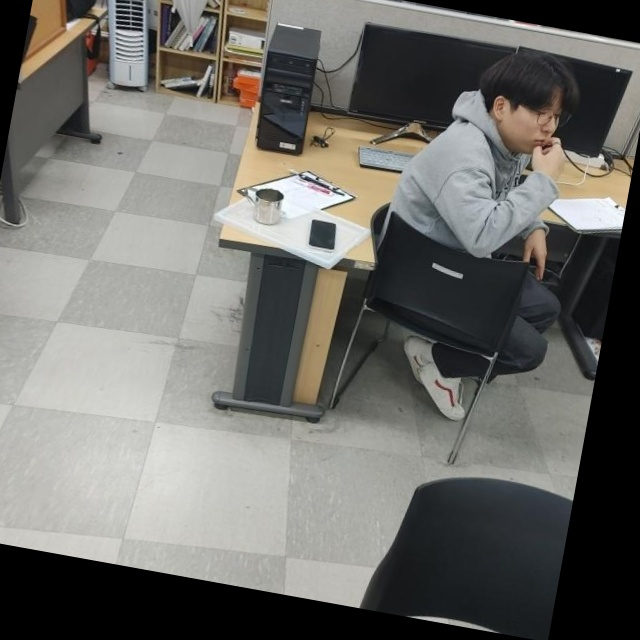cup: (239, 182, 289, 229)
phone: (304, 215, 342, 254)
